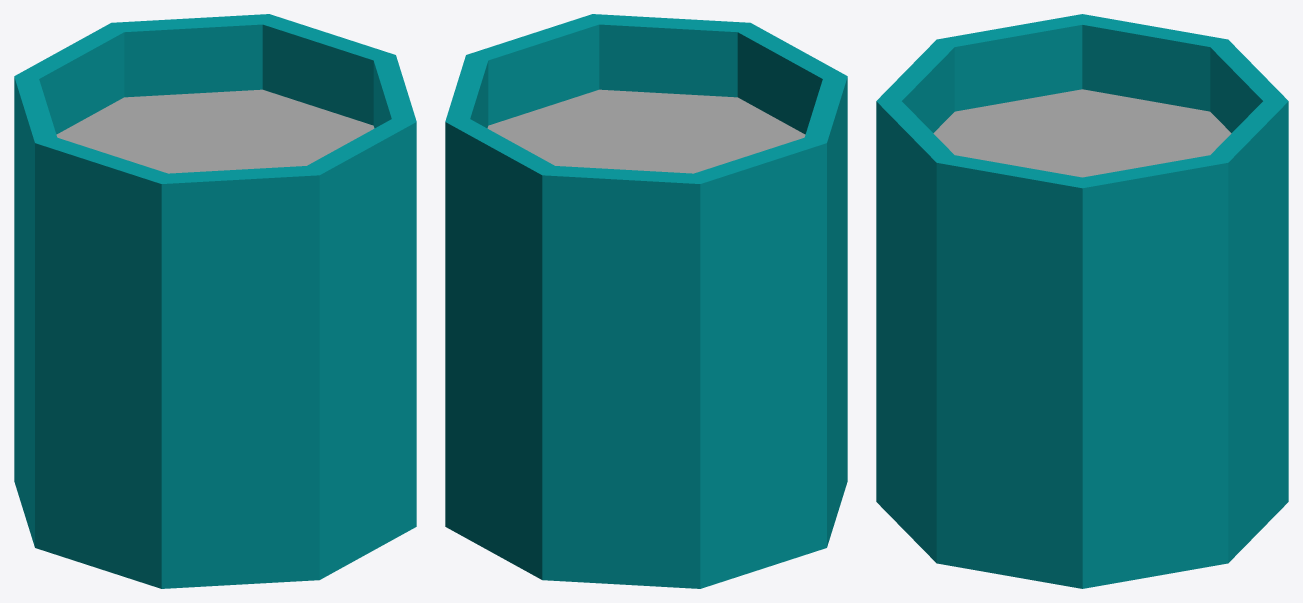
Rendered from ShotGlass1.fbx.
3 views of the same model, side by side, from view 1: azimuth 30°, elevation 25°; view 2: azimuth 150°, elevation 25°; view 3: azimuth 270°, elevation 25° (orthographic).
Visible parts, largest first — view 1: ShotGlass1, LiquidFull; view 2: ShotGlass1, LiquidFull; view 3: ShotGlass1, LiquidFull.
Part boxes in pixels (x1,y1,x2,y2): ShotGlass1: [14, 14, 416, 588]; LiquidFull: [56, 89, 374, 173]; ShotGlass1: [445, 14, 847, 588]; LiquidFull: [487, 89, 805, 173]; ShotGlass1: [876, 14, 1288, 588]; LiquidFull: [933, 89, 1231, 177].
Bounding box in the file's own units: 0.0906 × 0.0971 × 0.0906.
